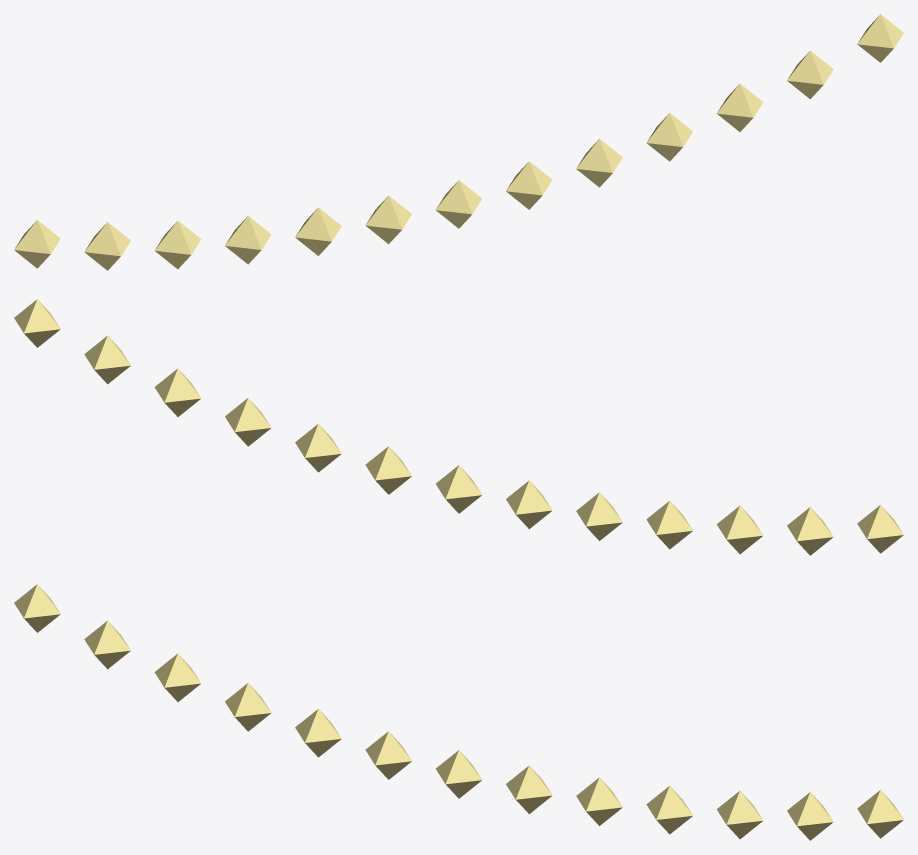
Rendered from string_bulbs.glb.
3 renders of one model, top to bottom at view 1: azimuth 30°, elevation 25°; view 2: azimuth 150°, elevation 25°; view 3: azimuth 330°, elevation 25°, orthographic.
Visible parts, largest first — view 1: string_bulbs; view 2: string_bulbs; view 3: string_bulbs.
Boxes of the visible parts, bbox=[...] form: string_bulbs: bbox=[14, 14, 903, 270]; string_bulbs: bbox=[14, 299, 903, 555]; string_bulbs: bbox=[14, 584, 903, 840].
Size of the model in its own units: 3.8 by 0.4571 by 0.2.
Materials: 1 (1 with a texture image).
